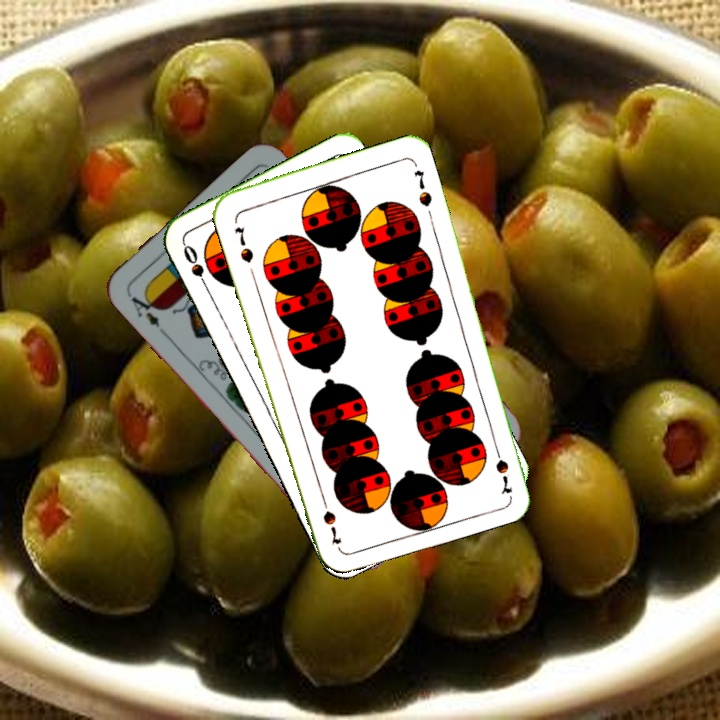EA: (123, 287, 163, 331)
S7: (489, 438, 515, 496), (230, 222, 256, 266)
SO: (179, 240, 213, 295)
